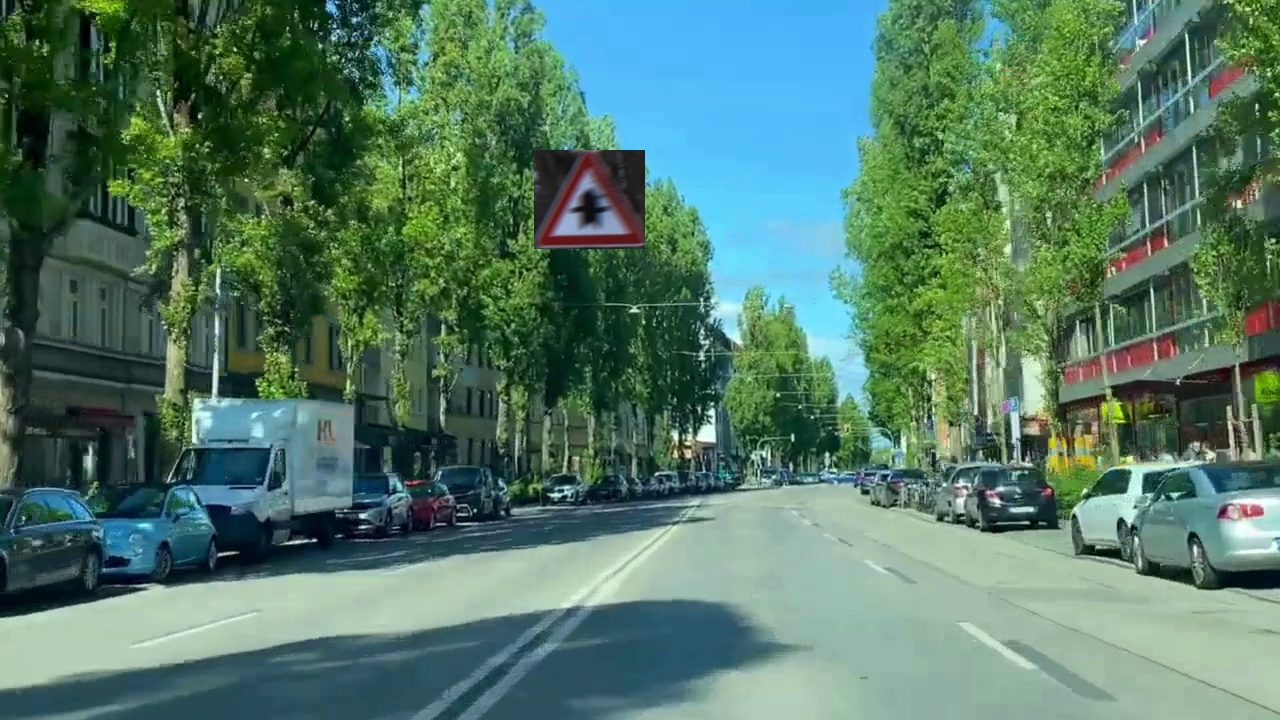Right-of-way: (534, 150, 645, 249)
